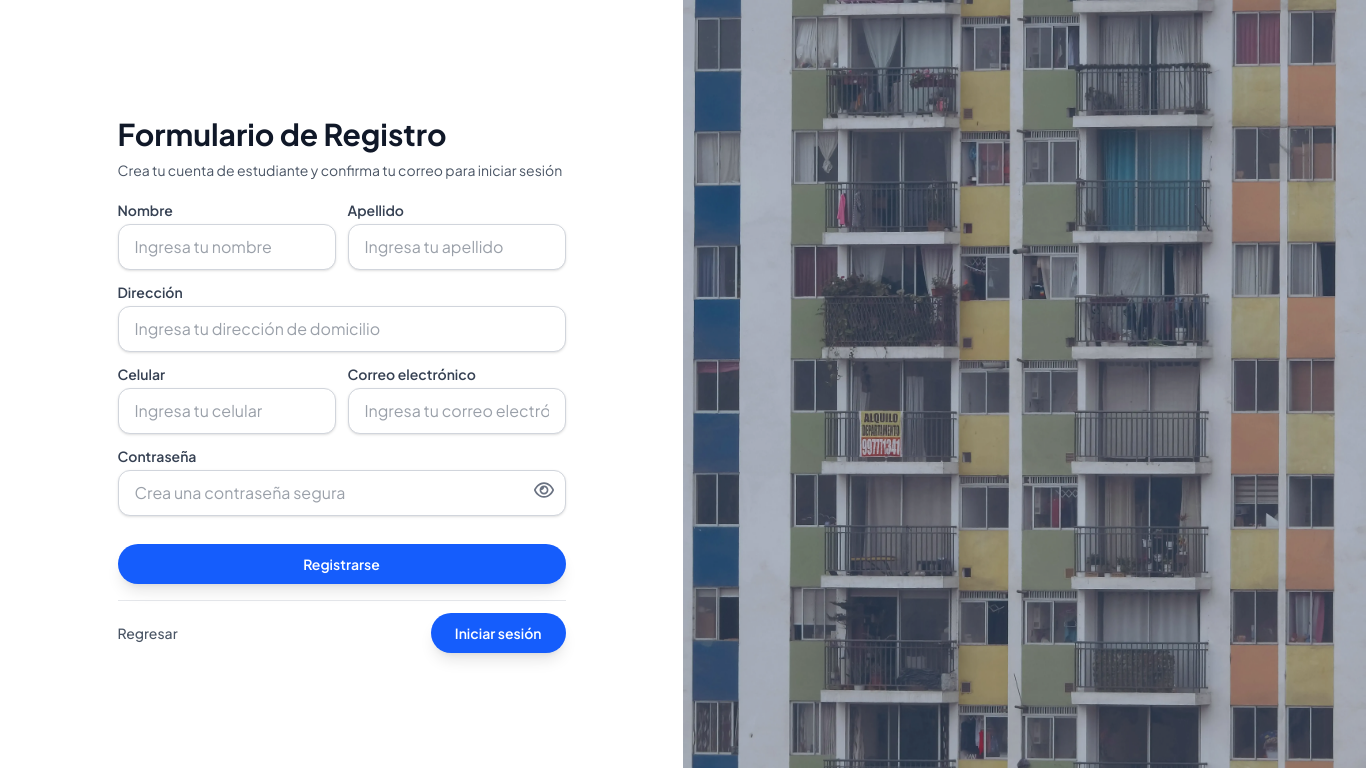
Scenario: Debe mostrar errores de validación si se intenta registrar con campos vacíos
The width and height of the screenshot is (1366, 768).
What coordinates should you click on to do the following:
click the button "Registrarse"
I would click on:
 (342, 564)
Its box is [118,544,566,584].
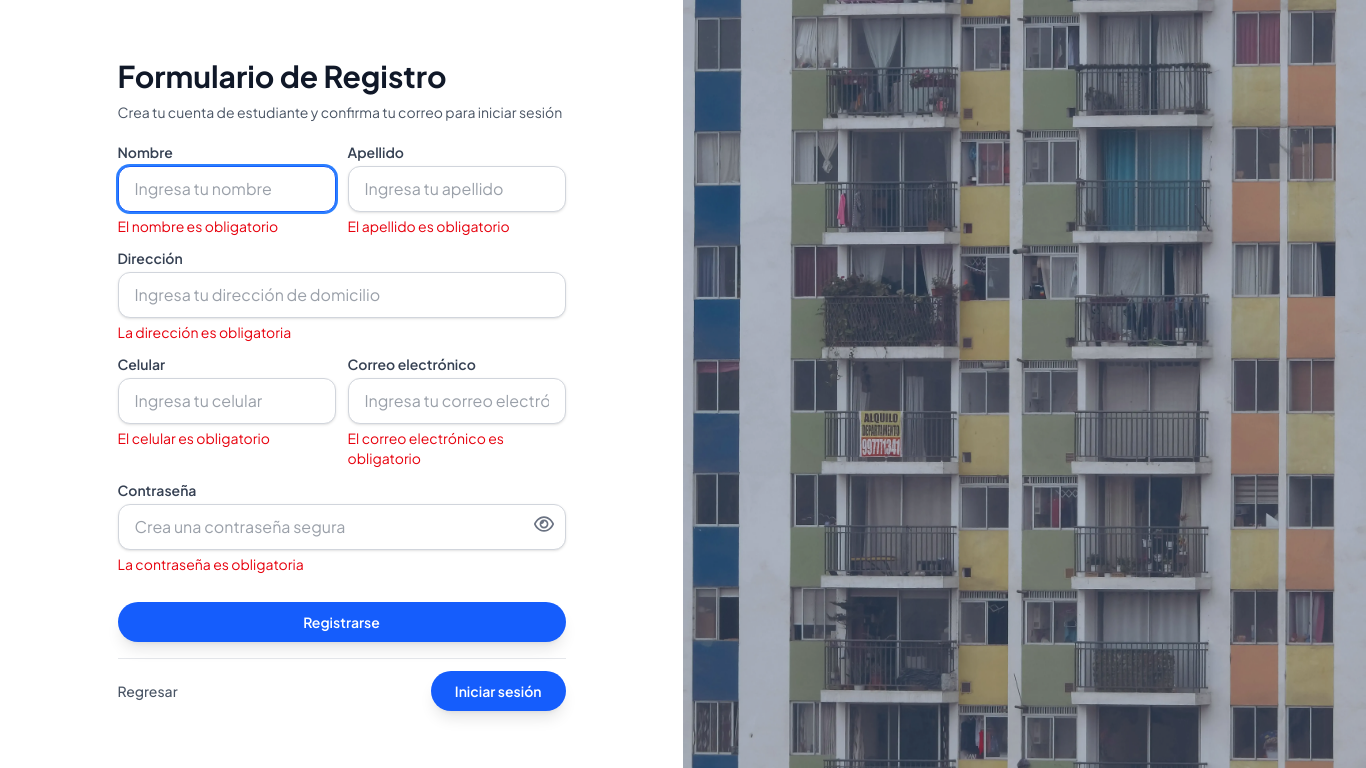
Expected: the text "El nombre es obligatorio" is shown, [118,216,278,234]
Expected: the text "El apellido es obligatorio" is shown, [348,216,510,234]
Expected: the text "La dirección es obligatoria" is shown, [118,322,291,340]
